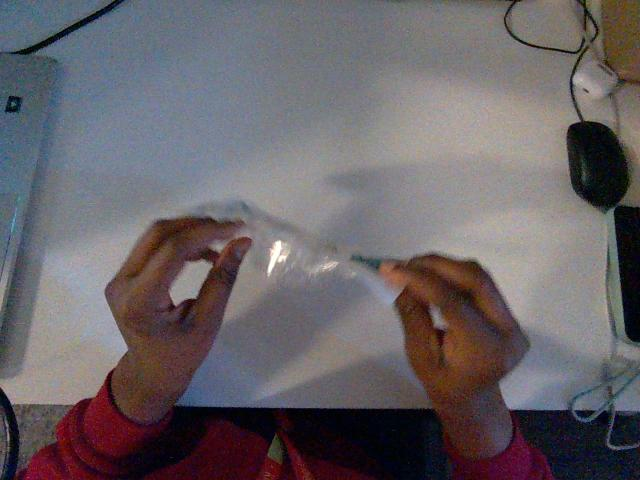gallipot: (195, 200, 399, 304)
